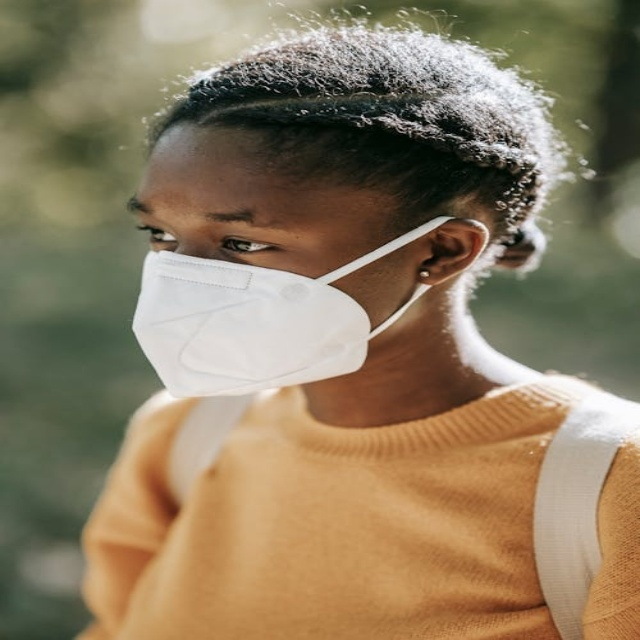Mascara: (132, 215, 463, 396)
Sin_gafas: (128, 204, 301, 264)
